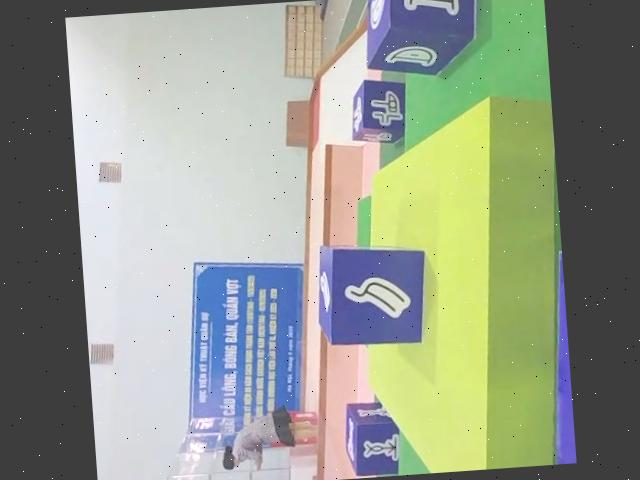R2 Real Blue: (313, 239, 432, 348), (361, 0, 484, 77), (342, 397, 403, 476), (346, 77, 407, 147)
